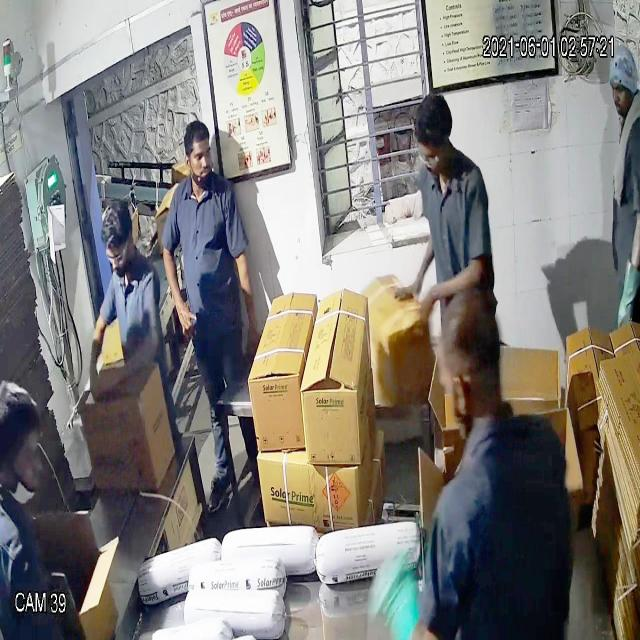glasses: (100, 234, 138, 269), (413, 139, 448, 175)
